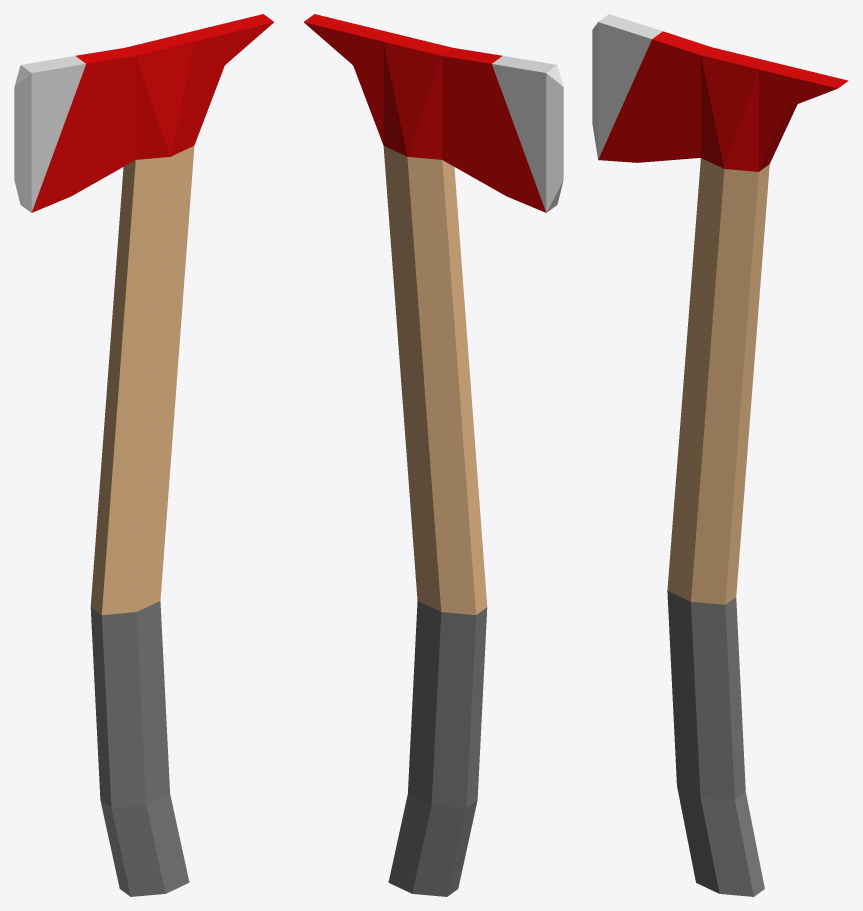
File: FireAxe.fbx
3 renders of one model, left to right at view 1: azimuth 30°, elevation 25°; view 2: azimuth 150°, elevation 25°; view 3: azimuth 330°, elevation 25°, orthographic.
Parts seen in each view (by area): view 1: FireAxe; view 2: FireAxe; view 3: FireAxe.
Part boxes in pixels (x1,y1,x2,y2): FireAxe: [14, 14, 273, 896]; FireAxe: [304, 14, 563, 896]; FireAxe: [592, 14, 848, 896].
Size of the model in its own units: 0.2563 by 0.8159 by 0.0387.
